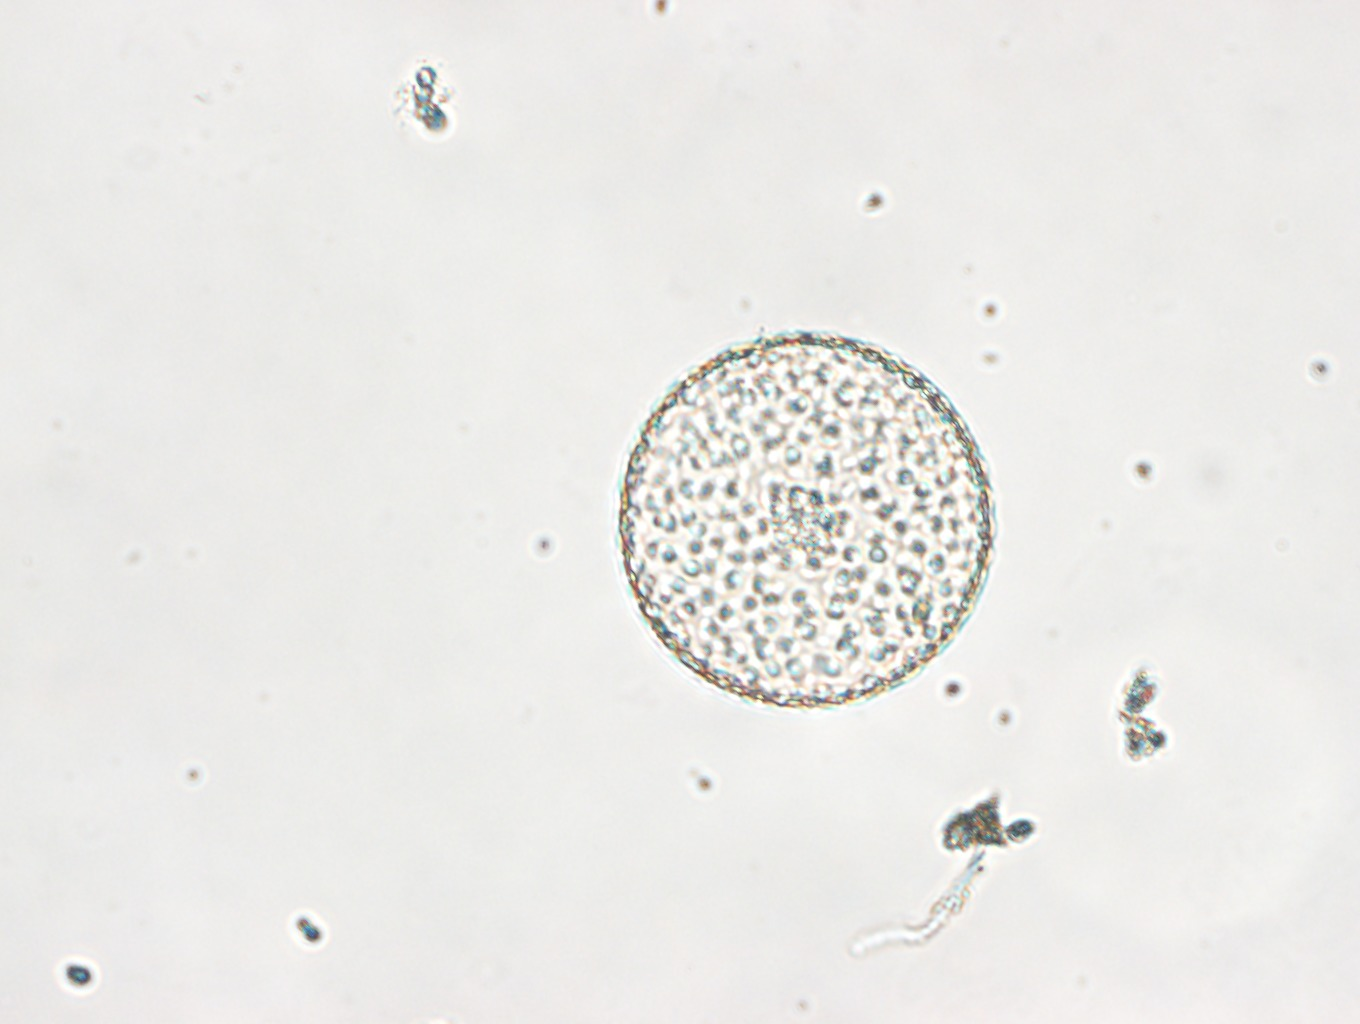coscinodiscus: (620, 330, 996, 710)
